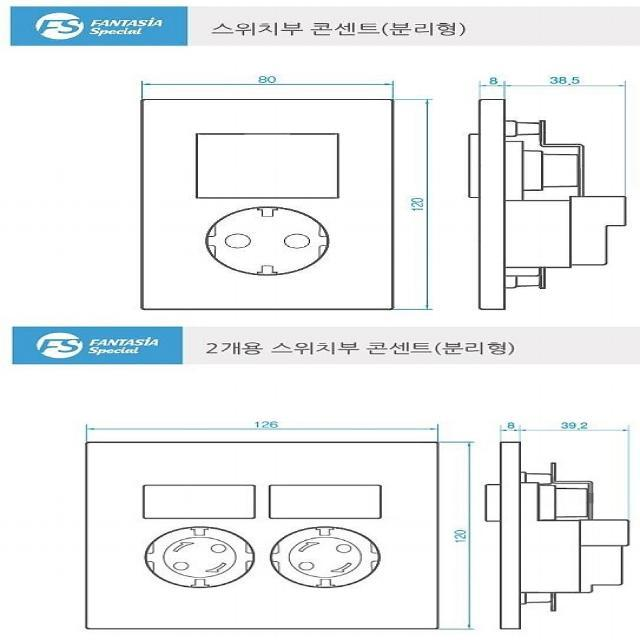typeb: (64, 428, 470, 634), (120, 86, 425, 318)
